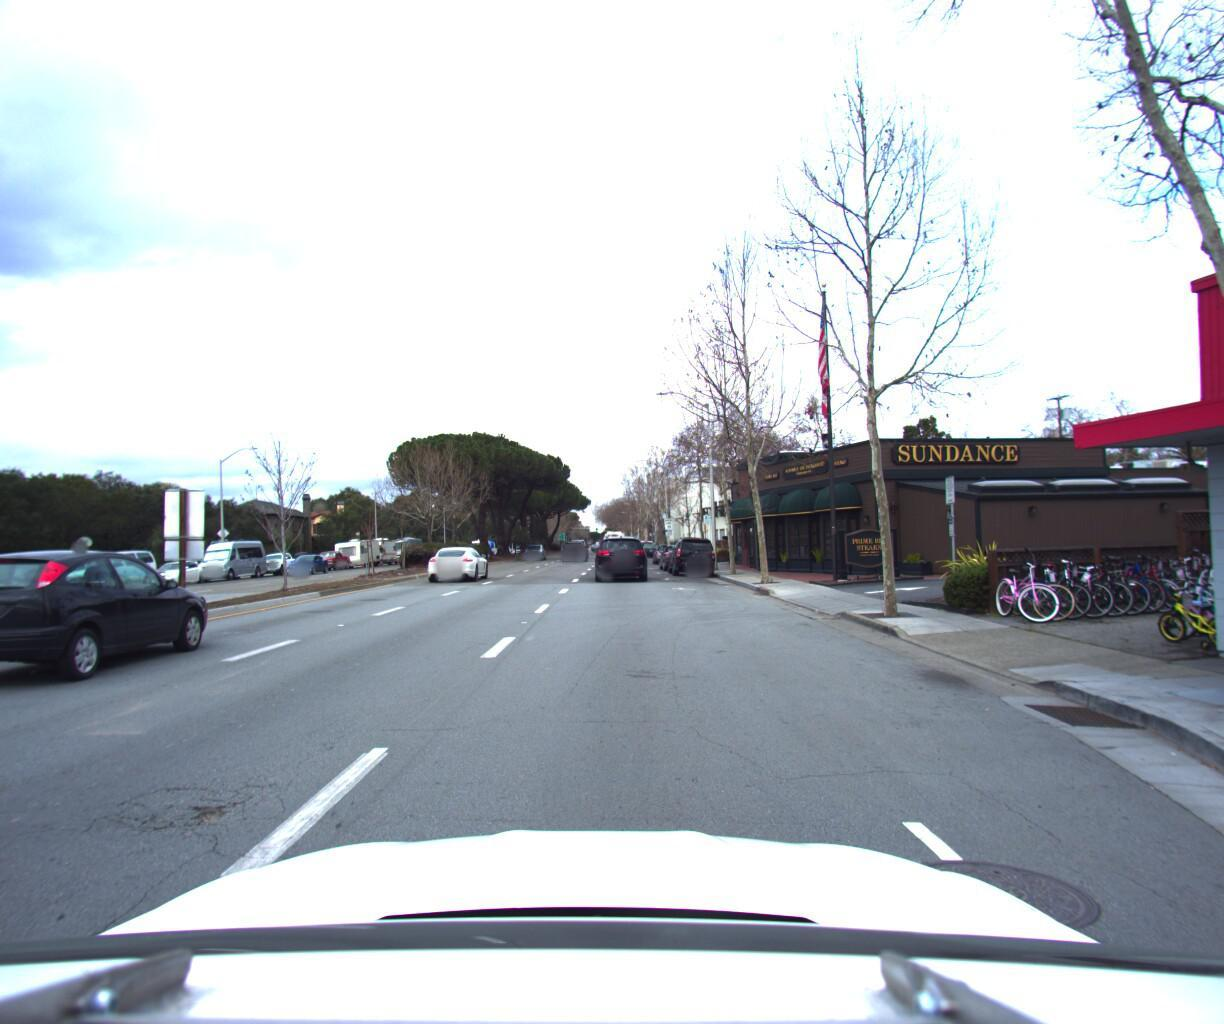bicycle: (1019, 539, 1100, 613), (1001, 541, 1078, 615), (1144, 575, 1224, 645), (1116, 543, 1202, 604), (1133, 542, 1219, 602), (1087, 545, 1170, 607), (1155, 567, 1224, 642), (1069, 546, 1152, 608), (1103, 544, 1186, 605), (1054, 547, 1134, 610), (1040, 548, 1118, 611), (1148, 541, 1224, 601), (1174, 559, 1224, 640)
car: (60, 543, 165, 588), (192, 530, 274, 577), (591, 525, 648, 577), (425, 538, 492, 578), (667, 527, 719, 573), (140, 550, 212, 582), (254, 543, 306, 569), (282, 545, 330, 568), (313, 541, 355, 565), (561, 528, 588, 551), (522, 532, 545, 550), (641, 534, 662, 551)
other_vehicle: (334, 529, 387, 560)
